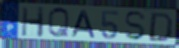5: (100, 10, 119, 41)
A: (70, 10, 97, 39)
D: (147, 12, 175, 43)
H: (21, 6, 46, 39)
Q: (47, 7, 71, 40)
S: (124, 11, 148, 42)
